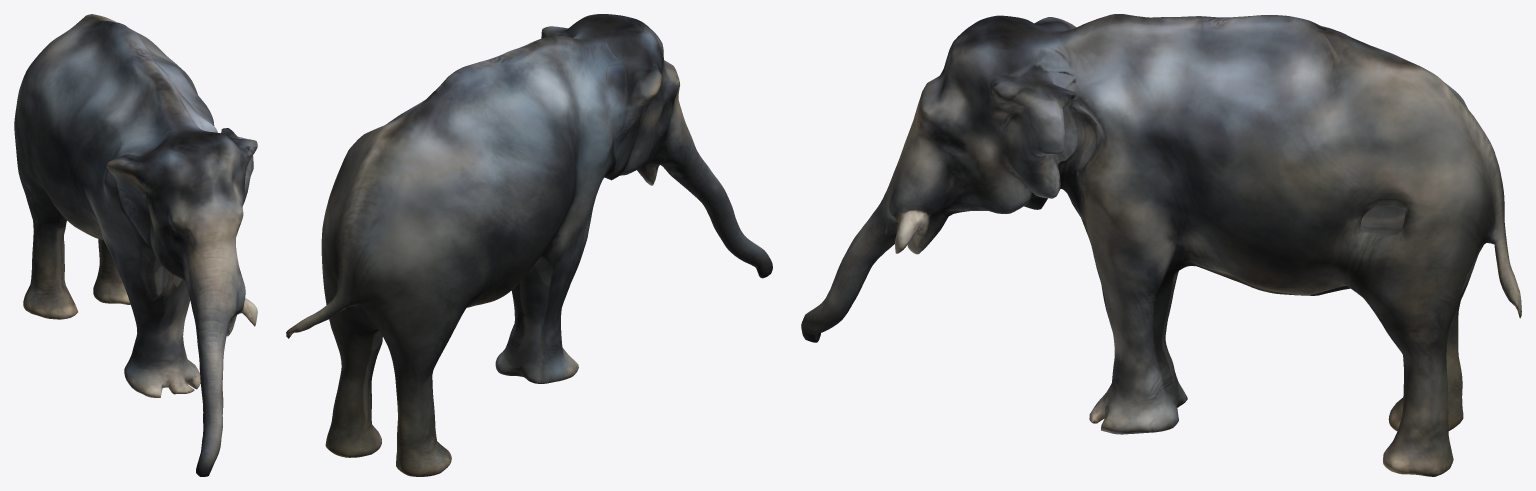
Rendered from Borobudur_Temple_Park_Elephant_cage_01_removebg_pr_0610212521.fbx.
3 renders of one model, left to right at view 1: azimuth 30°, elevation 25°; view 2: azimuth 150°, elevation 25°; view 3: azimuth 270°, elevation 25°, orthographic. The views are drawn at different scales.
Visible parts, largest first — view 1: Mesh_0; view 2: Mesh_0; view 3: Mesh_0.
Part boxes in pixels (x1,y1,x2,y2): Mesh_0: (14,14,257,476); Mesh_0: (286,14,772,476); Mesh_0: (801,14,1521,476).
Size of the model in its own units: 46.35 by 77.59 by 120.
1 material, 1 textured.
